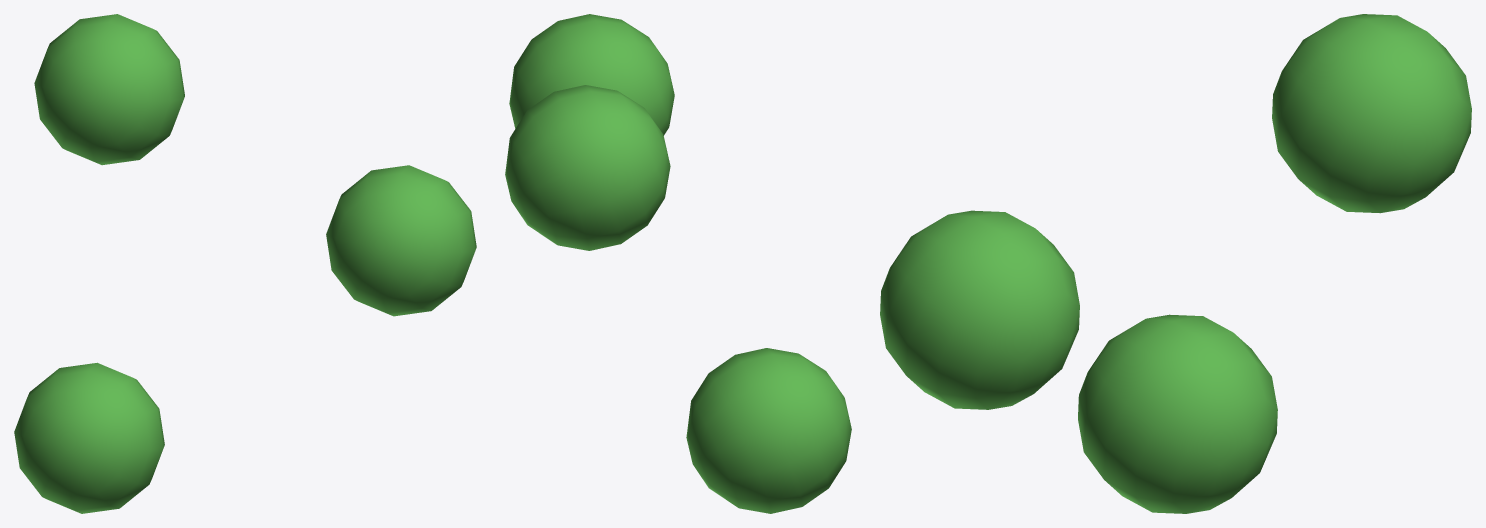
Rendered from linfatico-bucinator-node-r.glb.
3 renders of one model, left to right at view 1: azimuth 30°, elevation 25°; view 2: azimuth 150°, elevation 25°; view 3: azimuth 270°, elevation 25°, orthographic. The views are drawn at different scales.
Parts seen in each view (by area): view 1: Bucinator node.r; view 2: Bucinator node.r; view 3: Bucinator node.r.
Part boxes in pixels (x1,y1,x2,y2): Bucinator node.r: (14, 14, 476, 513); Bucinator node.r: (505, 14, 851, 513); Bucinator node.r: (880, 14, 1471, 513).
Bounding box in the file's own units: 0.00723 × 0.0077 × 0.00758.
